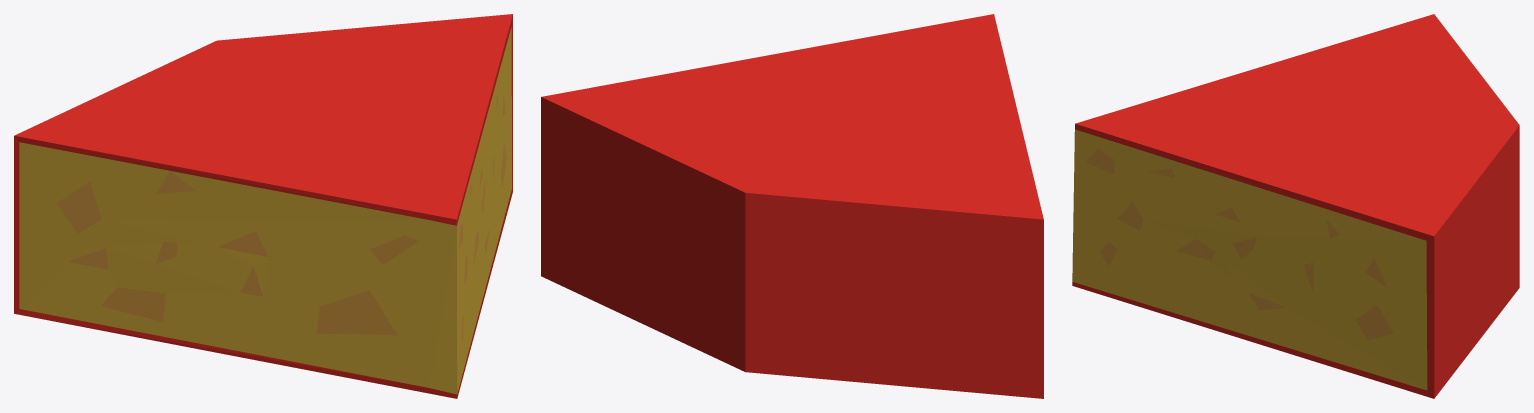
File: CheeseSlice.fbx
3 renders of one model, left to right at view 1: azimuth 30°, elevation 25°; view 2: azimuth 150°, elevation 25°; view 3: azimuth 270°, elevation 25°, orthographic. The views are drawn at different scales.
Parts seen in each view (by area): view 1: Cylinder, Cylinder.001, Cylinder.003, Cylinder.002, Cylinder.004; view 2: Cylinder; view 3: Cylinder, Cylinder.003, Cylinder.004.
Part boxes in pixels (left/top/right/bottom): Cylinder: left=14, top=14, right=512, bottom=398; Cylinder.001: left=19, top=142, right=457, bottom=394; Cylinder.003: left=457, top=27, right=511, bottom=393; Cylinder.002: left=56, top=171, right=418, bottom=335; Cylinder.004: left=458, top=93, right=506, bottom=343; Cylinder: left=541, top=14, right=1043, bottom=398; Cylinder: left=1072, top=14, right=1519, bottom=398; Cylinder.003: left=1072, top=129, right=1427, bottom=390; Cylinder.004: left=1086, top=149, right=1393, bottom=340.
Size of the model in its own units: 30.41 by 10.37 by 25.85.
